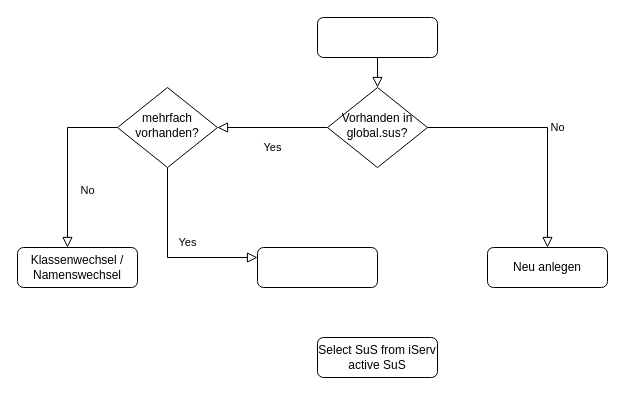
Image size: 625x395. Some labels were removed from this diagram. Here are the shapes that lost their labels. From the top down, the box of each, then its label:
(316, 16, 438, 58): Select SuS from actual_HJ
(256, 246, 378, 288): nu wirds blöd
